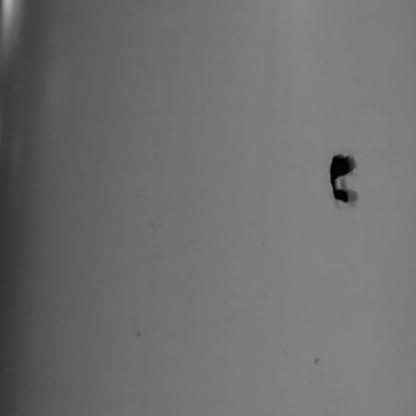kongdong: (318, 142, 374, 214)
